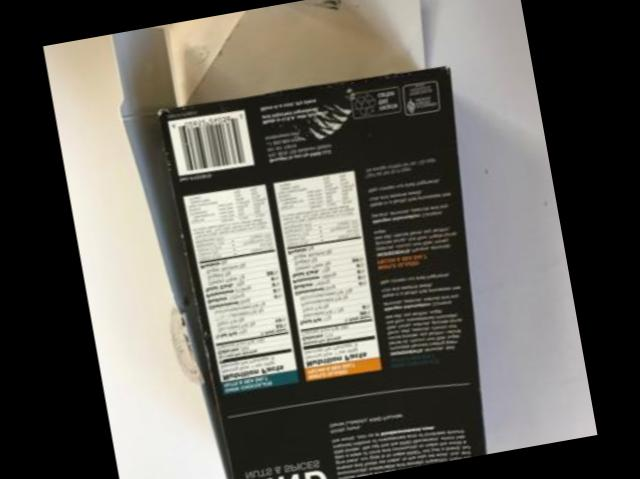cardboard paper: (162, 0, 487, 479)
